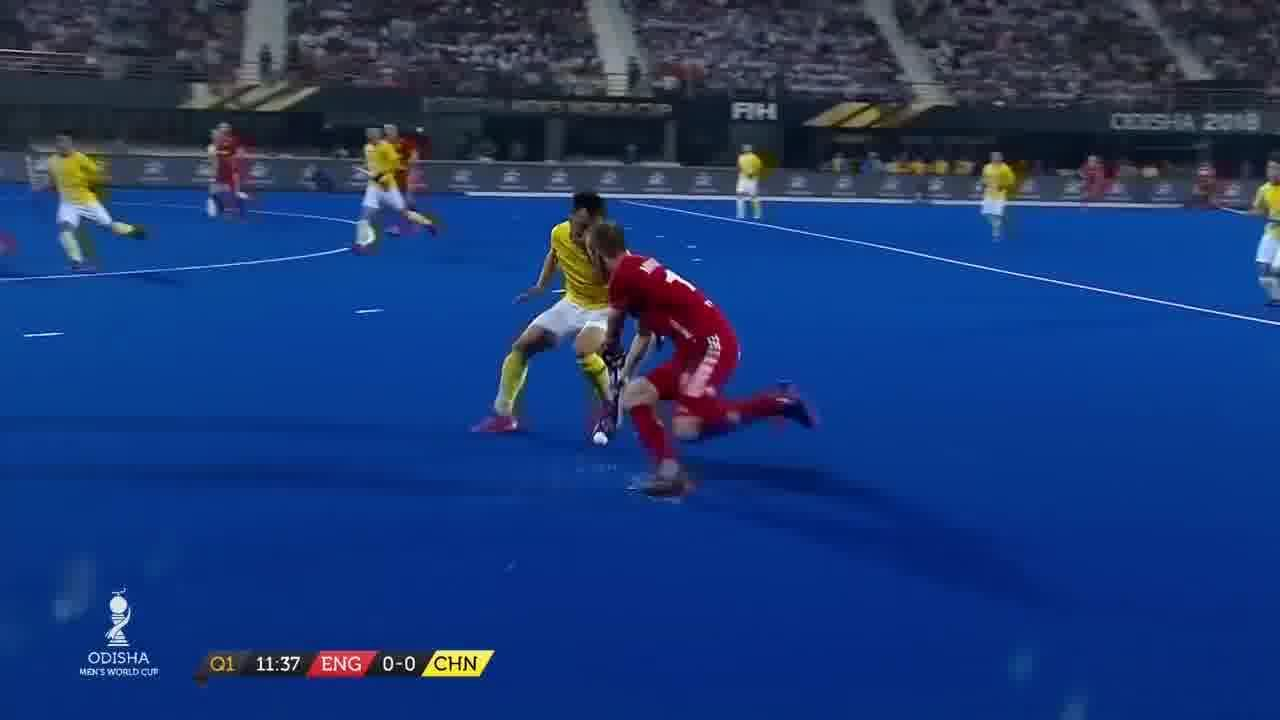ball: (578, 424, 618, 454)
